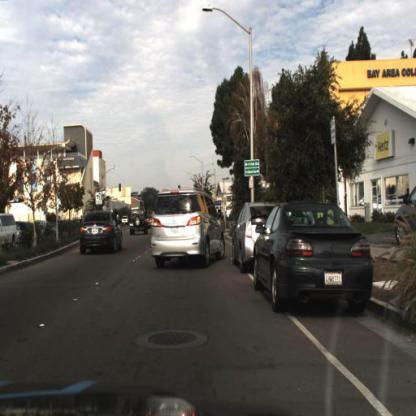car: (253, 195, 375, 317), (147, 180, 228, 278), (154, 192, 227, 263), (231, 201, 268, 273), (77, 204, 124, 259), (283, 196, 329, 236), (129, 203, 151, 237), (145, 212, 157, 238)
